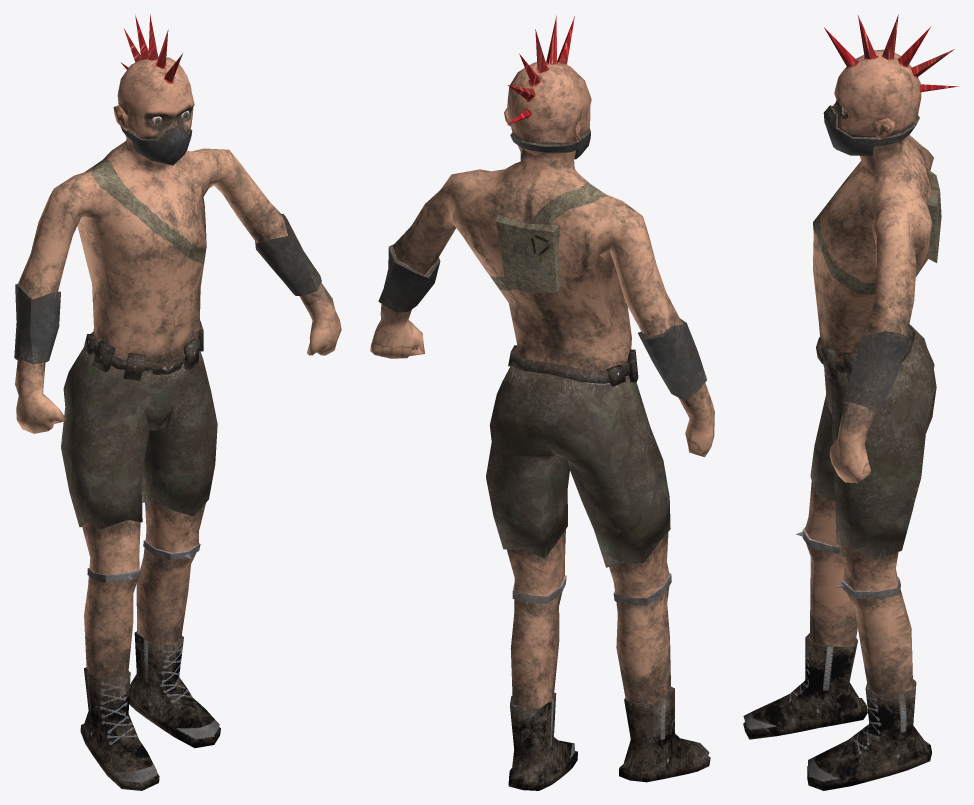
File: Anim_ganar_1_npc2.0042.obj
The picture shows the model from 3 angles, left to right: view 1: azimuth 30°, elevation 25°; view 2: azimuth 150°, elevation 25°; view 3: azimuth 270°, elevation 25°; orthographic projection. The views are drawn at different scales.
Visible parts, largest first — view 1: polySurface1; view 2: polySurface1; view 3: polySurface1.
Part boxes in pixels (x1,y1,x2,y2): polySurface1: (14,14,341,790); polySurface1: (370,15,714,790); polySurface1: (743,14,959,790).
Size of the model in its own units: 4.87 by 10.31 by 2.67.
